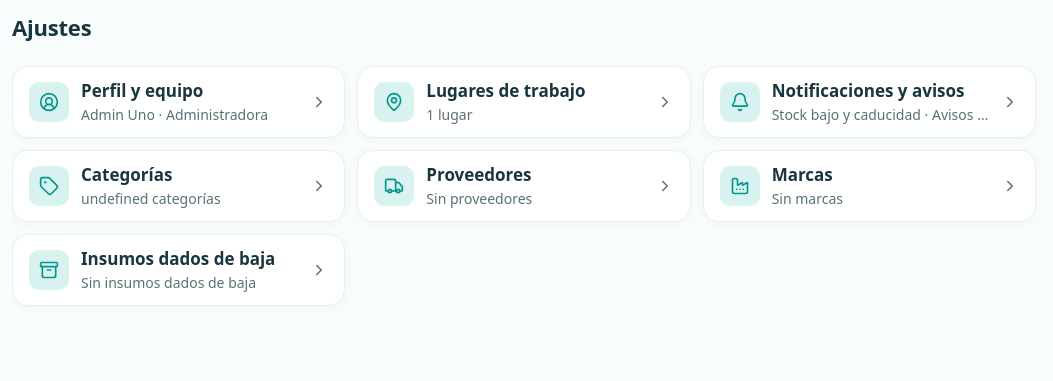
Test: Índice de Ajustes (spec 019 US1) › "Perfil y equipo" reúne el perfil con "Cerrar sesión" y el equipo
This screenshot has width=1053, height=381.
Click the button "Perfil y equipo": (179, 102) top-left (12, 66), bottom-right (345, 138)
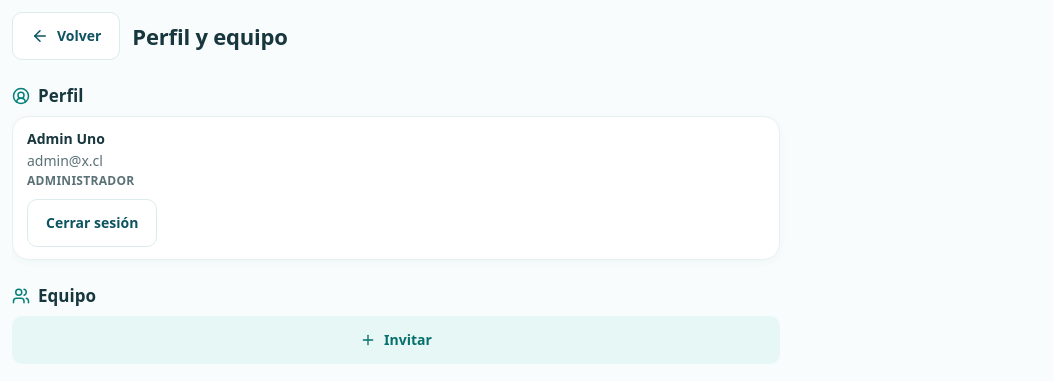
Expected: the text "admin@x.cl" is shown, top-left (27, 151), bottom-right (103, 170)
Expected: the button "Cerrar sesión" is shown, top-left (27, 199), bottom-right (157, 247)
Expected: the heading "Equipo" is shown, top-left (12, 284), bottom-right (96, 307)
